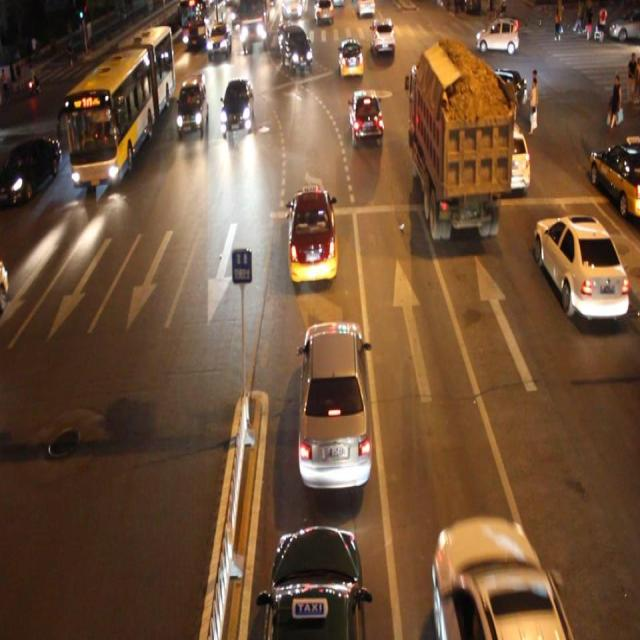bus: (408, 46, 508, 235)
car: (428, 516, 566, 640), (297, 319, 373, 495), (260, 526, 367, 640), (534, 214, 627, 317), (287, 188, 339, 284), (0, 138, 60, 202), (485, 117, 531, 194), (93, 60, 134, 113), (488, 67, 526, 120), (348, 87, 383, 144), (220, 76, 254, 134), (280, 28, 314, 75), (337, 38, 364, 81), (370, 17, 395, 54)
truck: (175, 75, 208, 134)
van: (67, 29, 172, 182)
